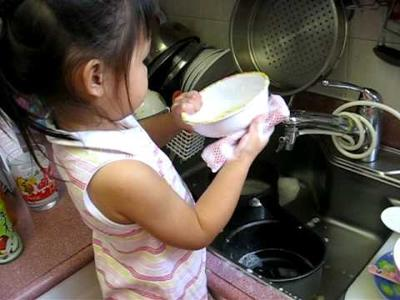person: (1, 1, 276, 300)
